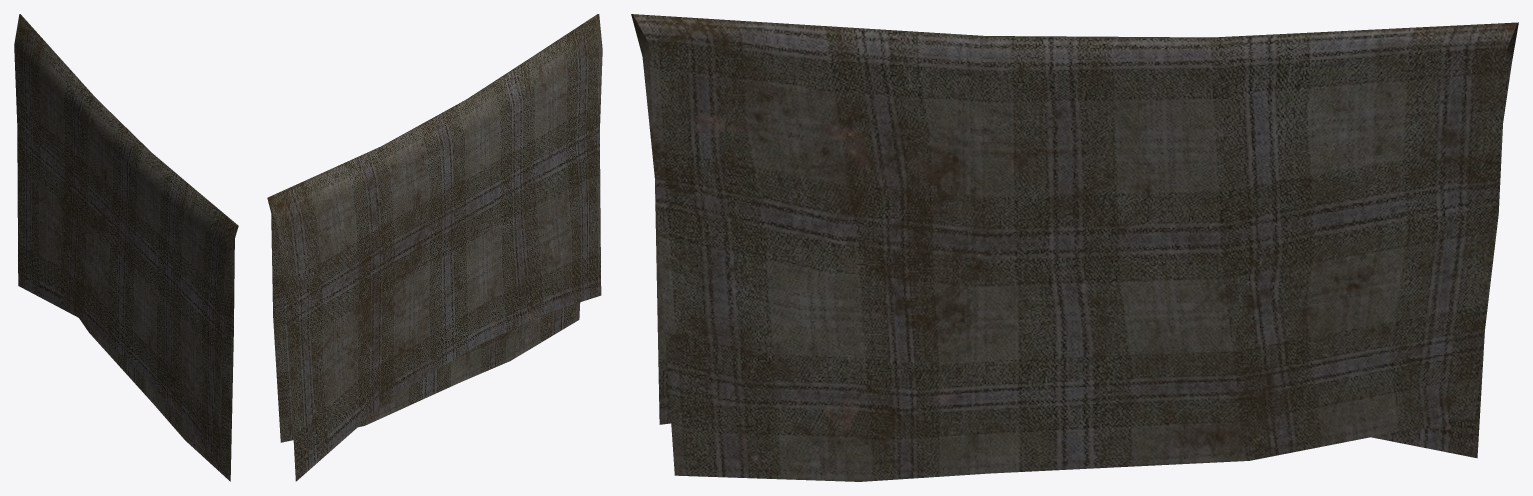
Rendered from BedSheet.FBX.
3 renders of one model, left to right at view 1: azimuth 30°, elevation 25°; view 2: azimuth 150°, elevation 25°; view 3: azimuth 270°, elevation 25°, orthographic. The views are drawn at different scales.
Visible parts, largest first — view 1: BedSheet; view 2: BedSheet; view 3: BedSheet.
Boxes of the visible parts, bbox=[...] form: BedSheet: bbox=[14, 14, 238, 481]; BedSheet: bbox=[267, 14, 602, 481]; BedSheet: bbox=[631, 14, 1518, 481].
Bounding box in the file's own units: 20.17 × 107 × 179.
Materials: 1 (1 with a texture image).
